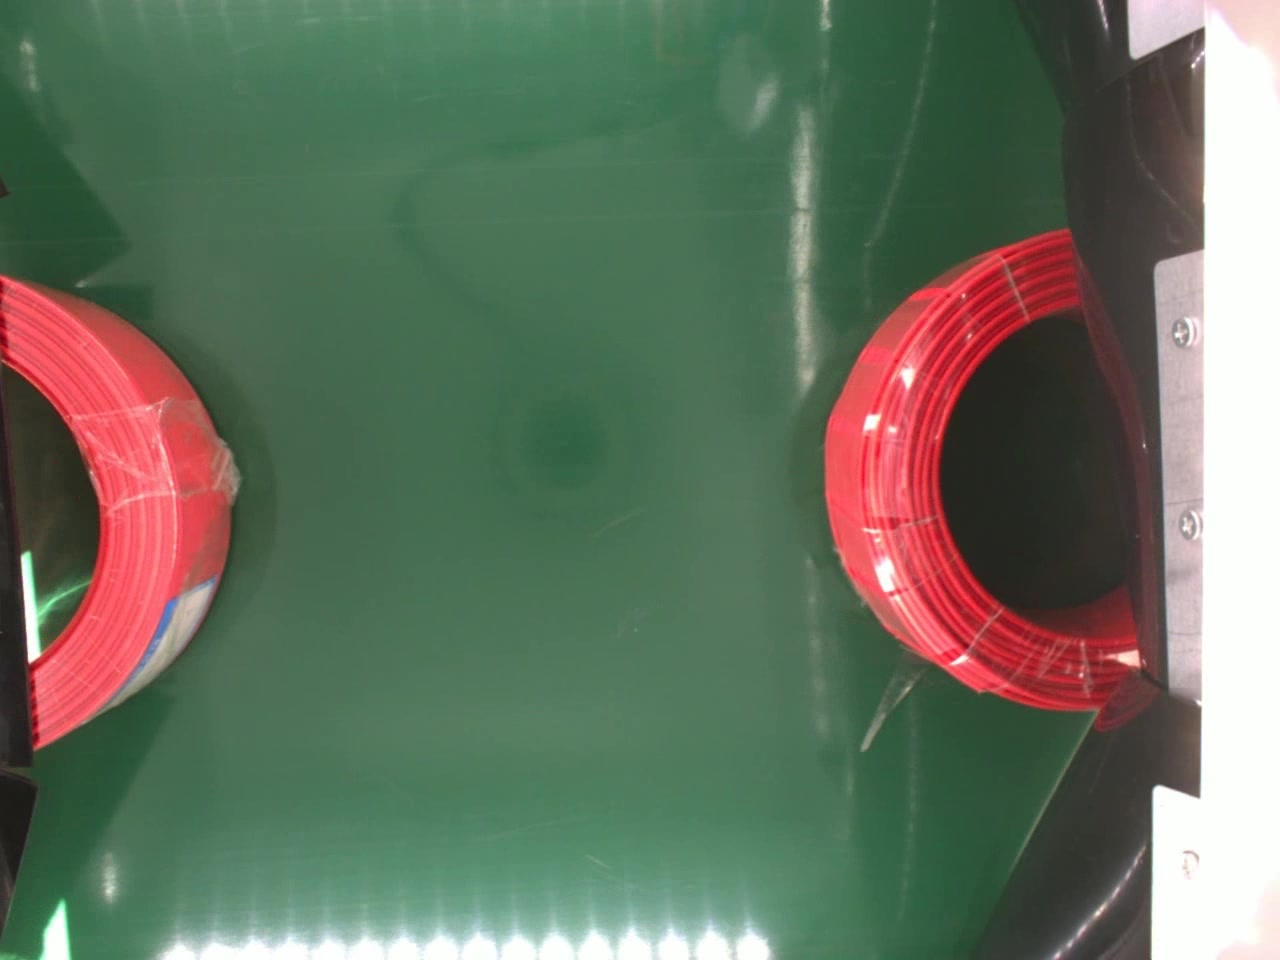red: (824, 226, 1140, 720), (0, 271, 238, 750)
